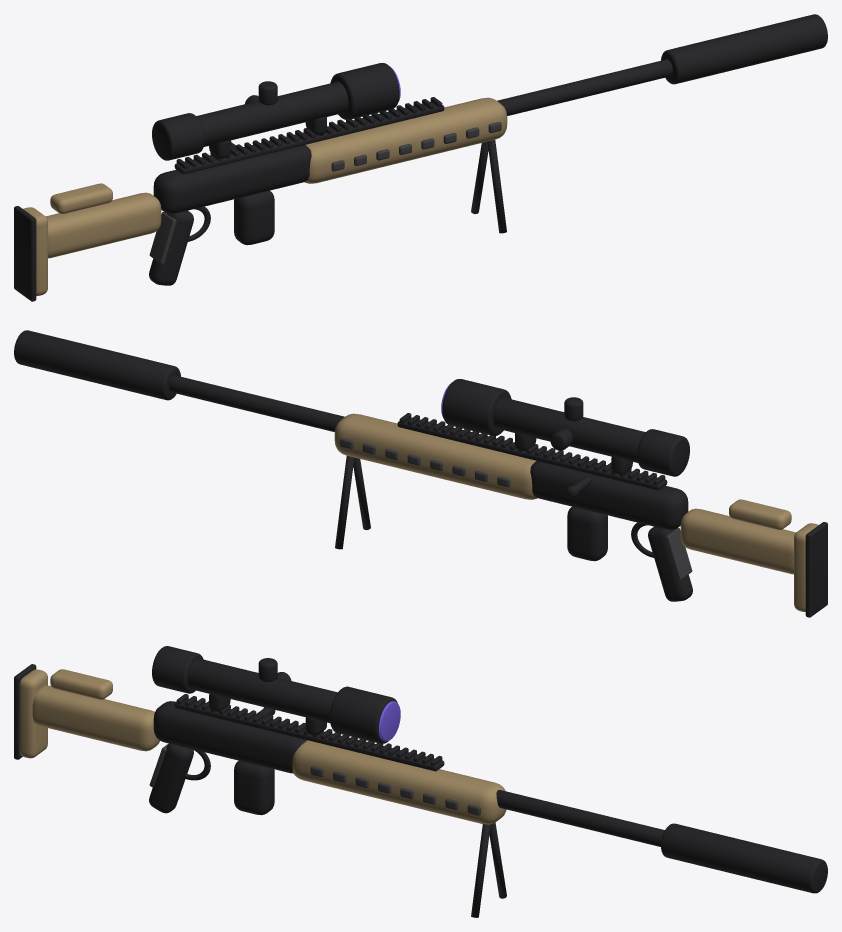
Rendered from sniper.glb.
3 renders of one model, top to bottom at view 1: azimuth 30°, elevation 25°; view 2: azimuth 150°, elevation 25°; view 3: azimuth 330°, elevation 25°, orthographic.
Parts seen in each view (by area): view 1: sr7; view 2: sr7; view 3: sr7.
Part boxes in pixels (<box>): sr7: <box>14,14,827,301</box>; sr7: <box>14,330,827,617</box>; sr7: <box>14,646,827,917</box>.
Size of the model in its own units: 1.16 by 0.2666 by 0.1022.
